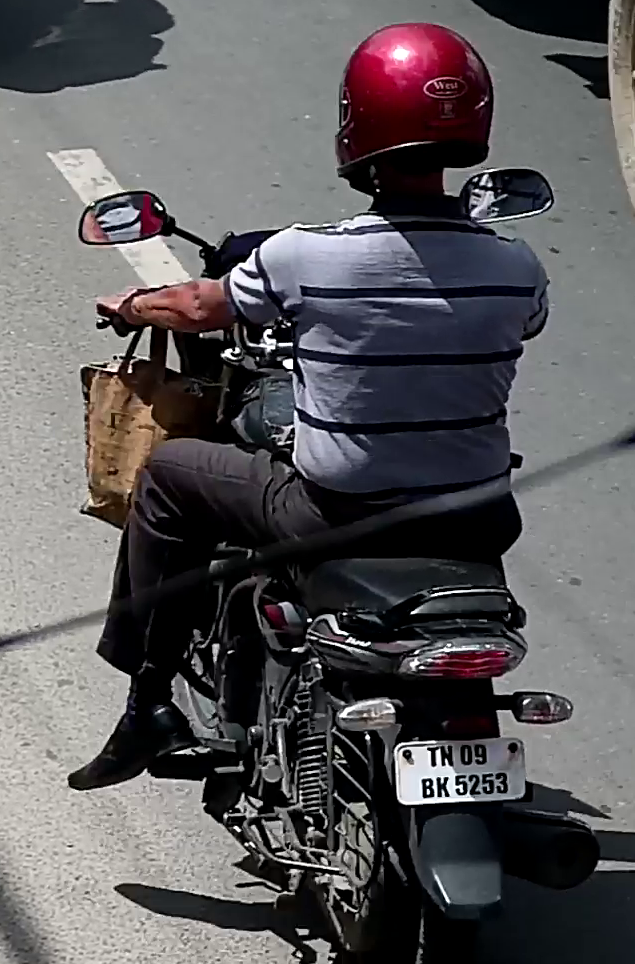0: (459, 744, 472, 766)
2: (468, 774, 480, 796)
3: (495, 771, 507, 795)
5: (481, 772, 494, 796), (454, 775, 467, 795)
9: (473, 744, 486, 765)
B: (420, 778, 434, 798)
K: (435, 775, 449, 798)
N: (439, 745, 453, 767)
P16: (393, 737, 529, 809)
T: (426, 746, 438, 768)
